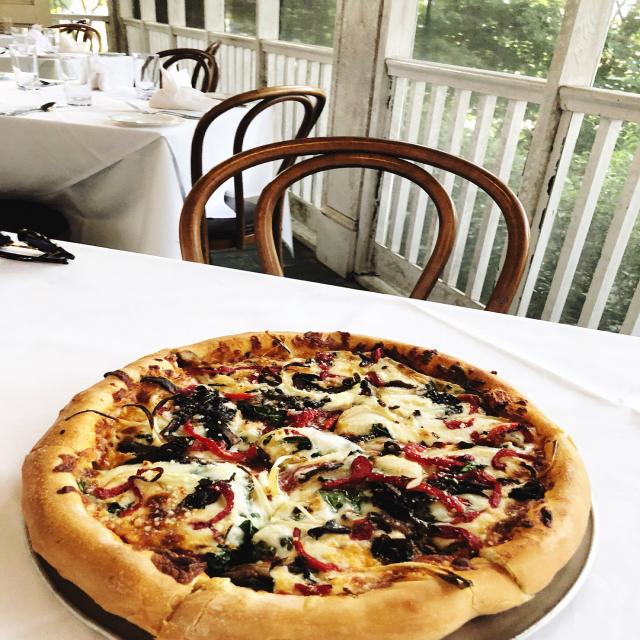peppers: (378, 469, 466, 513), (180, 416, 264, 462), (98, 465, 160, 519), (200, 477, 239, 535), (401, 442, 471, 474), (290, 526, 336, 574), (432, 521, 490, 556), (470, 417, 531, 447), (488, 445, 550, 471), (443, 390, 480, 430), (328, 457, 368, 490), (294, 405, 342, 431), (195, 358, 242, 377), (363, 364, 393, 389), (348, 517, 371, 539), (222, 387, 254, 402)
pizza: (24, 331, 592, 640)
